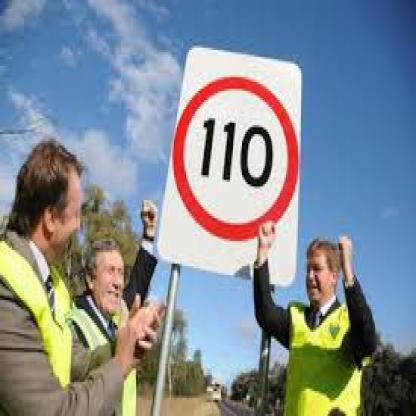Speed Limit 110: (177, 75, 295, 236)
